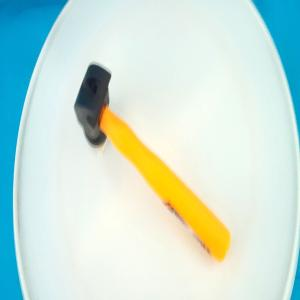martelo: (73, 60, 234, 268)
